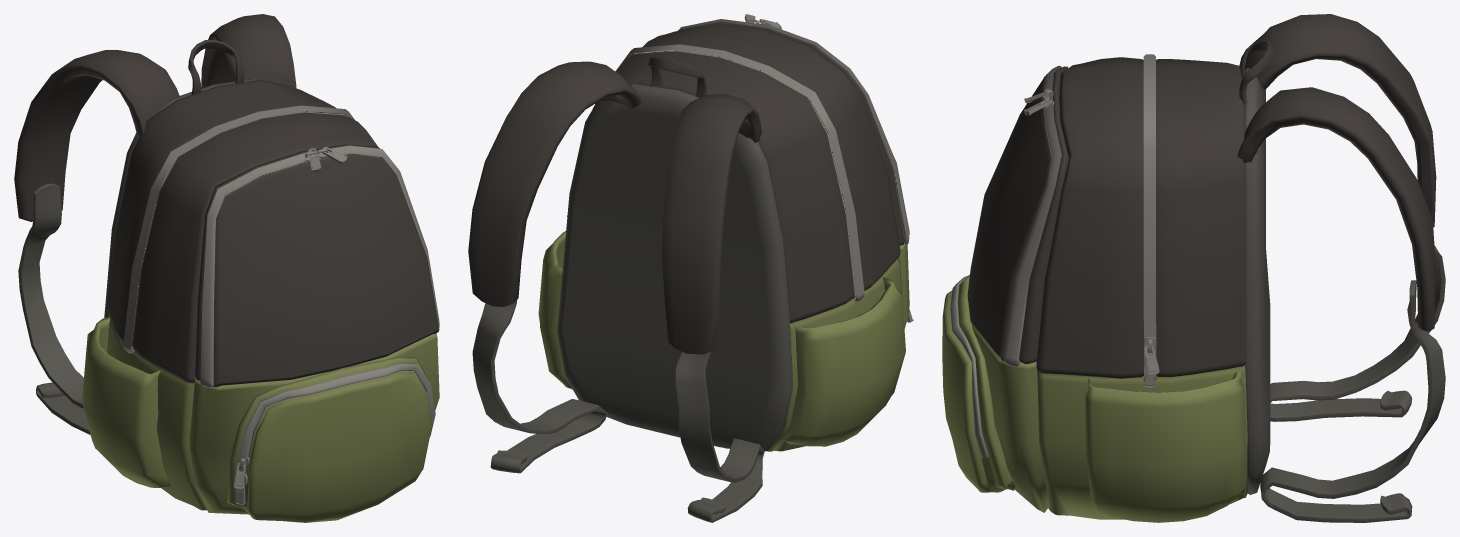
Rendered from SoccerBag.fbx.
The picture shows the model from 3 angles, left to right: view 1: azimuth 30°, elevation 25°; view 2: azimuth 150°, elevation 25°; view 3: azimuth 270°, elevation 25°; orthographic projection. The views are drawn at different scales.
Visible parts, largest first — view 1: SoccerBag; view 2: SoccerBag; view 3: SoccerBag.
Boxes of the visible parts, left/top/right/bottom form: SoccerBag: left=14, top=14, right=439, bottom=522; SoccerBag: left=468, top=14, right=913, bottom=522; SoccerBag: left=942, top=14, right=1445, bottom=522.
Size of the model in its own units: 0.6671 by 0.758 by 0.8101.
